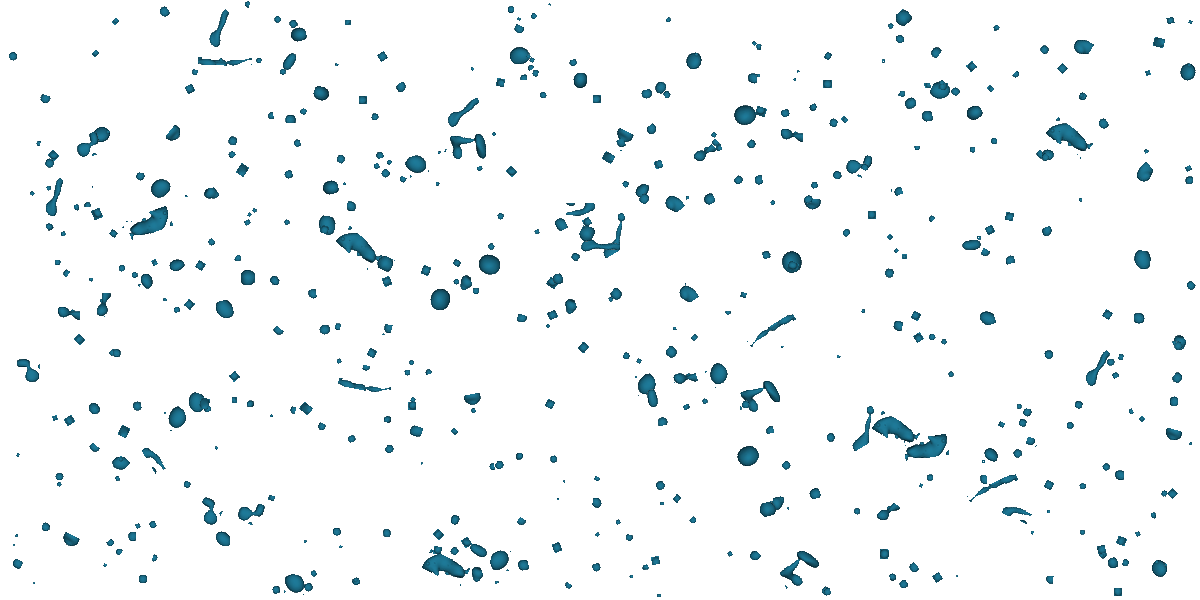Detached ligament: (772, 540, 827, 594), (442, 120, 496, 171), (589, 211, 639, 259), (838, 404, 888, 452), (335, 225, 383, 272), (1045, 116, 1094, 161), (871, 410, 921, 452), (421, 548, 471, 588), (746, 312, 797, 348), (124, 205, 174, 241), (739, 375, 783, 415), (1078, 349, 1120, 389), (201, 8, 241, 50), (966, 472, 1019, 503), (37, 177, 76, 219), (902, 433, 950, 462), (579, 231, 621, 264), (443, 97, 485, 129), (193, 495, 226, 529), (234, 496, 267, 528), (337, 377, 392, 396), (843, 149, 874, 180), (140, 443, 167, 475), (73, 131, 102, 159), (1000, 501, 1033, 525), (691, 139, 718, 167), (874, 498, 901, 526), (16, 358, 41, 384), (671, 367, 699, 389), (198, 57, 252, 66), (779, 127, 804, 143), (56, 305, 81, 321), (566, 203, 596, 216), (96, 293, 111, 317)
drop: (732, 440, 764, 472), (776, 246, 808, 278), (729, 99, 761, 131), (505, 41, 534, 71), (146, 174, 175, 203), (703, 360, 732, 389), (162, 404, 190, 432), (426, 286, 455, 313), (403, 152, 430, 179), (927, 79, 954, 105), (660, 191, 686, 217), (674, 281, 700, 307), (1132, 161, 1158, 187), (477, 251, 502, 278), (183, 390, 208, 416), (1069, 35, 1095, 60), (1147, 556, 1172, 581), (89, 122, 114, 147), (633, 372, 658, 397), (212, 298, 236, 323), (107, 452, 131, 476), (1176, 60, 1200, 84), (278, 50, 301, 75), (467, 539, 492, 562), (961, 101, 985, 124), (1167, 331, 1190, 354), (891, 7, 914, 30), (283, 573, 306, 596), (489, 549, 512, 572), (315, 214, 337, 238), (373, 252, 396, 274), (165, 254, 187, 276), (136, 269, 158, 291), (683, 50, 705, 72), (1131, 249, 1152, 272), (576, 223, 597, 246), (975, 308, 997, 329), (465, 563, 486, 585), (311, 84, 333, 105), (164, 123, 185, 145), (769, 493, 789, 515), (559, 295, 579, 317), (319, 177, 340, 197), (287, 24, 308, 44), (981, 444, 1001, 464), (60, 531, 81, 550), (614, 127, 635, 146), (756, 500, 777, 519), (632, 181, 651, 201), (201, 186, 221, 204), (1163, 427, 1184, 443), (212, 530, 231, 547), (571, 72, 588, 91), (646, 388, 660, 410), (745, 548, 763, 565), (643, 122, 661, 139), (240, 267, 256, 286), (463, 392, 483, 407), (552, 216, 569, 233), (608, 286, 625, 303), (663, 344, 680, 361), (393, 80, 410, 97), (1170, 370, 1187, 387), (1094, 116, 1111, 133), (155, 4, 172, 21), (637, 191, 654, 208), (652, 79, 669, 96), (86, 400, 103, 417), (962, 238, 983, 251), (700, 191, 717, 207), (902, 95, 919, 111), (457, 273, 472, 291), (803, 197, 822, 211), (408, 424, 424, 439), (270, 325, 286, 340), (86, 442, 102, 457), (1033, 149, 1049, 164), (928, 44, 943, 60), (806, 486, 822, 501), (1039, 225, 1055, 240), (1040, 147, 1056, 162), (235, 162, 250, 178), (298, 401, 314, 416), (653, 479, 668, 494), (906, 561, 921, 576), (601, 150, 616, 165), (267, 273, 282, 288), (1105, 556, 1120, 571), (550, 272, 565, 287), (591, 496, 605, 511), (979, 247, 994, 261), (515, 516, 530, 530), (225, 134, 239, 149), (824, 430, 838, 445), (545, 276, 560, 290), (117, 424, 131, 439), (516, 558, 530, 572), (10, 557, 24, 571), (839, 225, 853, 239), (512, 23, 526, 37), (90, 207, 104, 221), (515, 313, 530, 326), (615, 137, 628, 152), (198, 396, 211, 411), (1002, 253, 1016, 266), (38, 93, 52, 106), (346, 200, 359, 214), (890, 185, 904, 198), (754, 105, 768, 118), (786, 260, 800, 273), (1152, 36, 1166, 49), (1133, 312, 1146, 325), (1038, 43, 1051, 56), (1011, 447, 1024, 460), (448, 545, 461, 558), (949, 85, 962, 98), (1097, 548, 1110, 561), (287, 17, 300, 30), (569, 250, 582, 263), (379, 167, 392, 180), (780, 459, 793, 472), (897, 578, 910, 591), (1038, 151, 1051, 164), (745, 138, 758, 151), (1166, 487, 1179, 500), (1101, 308, 1114, 321), (194, 259, 207, 272), (183, 298, 196, 311), (376, 50, 389, 63), (1056, 62, 1069, 75), (47, 149, 60, 162), (460, 536, 473, 549), (505, 165, 518, 178), (432, 528, 445, 541), (63, 414, 76, 427), (73, 333, 86, 346), (965, 60, 978, 73), (912, 331, 925, 344), (270, 13, 283, 26), (732, 174, 745, 187), (493, 459, 506, 472), (1184, 279, 1197, 292), (383, 443, 396, 456), (577, 341, 590, 354), (228, 370, 241, 383), (931, 571, 944, 584), (306, 288, 318, 302), (892, 319, 904, 333), (1025, 436, 1039, 448), (761, 424, 775, 436), (43, 157, 55, 171), (345, 432, 358, 444), (752, 174, 764, 187), (831, 169, 844, 181), (1100, 461, 1112, 474), (40, 521, 52, 534), (1115, 535, 1128, 547), (381, 275, 393, 288), (420, 264, 432, 277), (551, 541, 563, 554), (546, 309, 559, 321), (449, 513, 461, 526), (382, 323, 393, 337), (921, 110, 933, 122), (7, 50, 19, 62), (319, 325, 331, 337), (641, 89, 653, 101), (740, 399, 752, 411), (661, 88, 673, 100), (820, 585, 832, 597), (894, 33, 906, 45), (335, 153, 347, 165), (105, 537, 117, 549), (295, 580, 307, 592), (350, 576, 362, 588), (1077, 91, 1089, 103), (1172, 340, 1184, 352), (44, 220, 56, 232), (808, 102, 820, 114), (315, 421, 327, 433), (366, 347, 378, 359), (544, 398, 556, 410), (984, 224, 996, 236), (1043, 479, 1055, 491), (937, 80, 949, 92), (581, 216, 593, 228), (180, 479, 192, 491), (621, 351, 633, 363), (910, 310, 922, 322), (184, 83, 196, 95), (977, 474, 988, 487), (1114, 469, 1125, 482), (747, 72, 758, 85), (284, 113, 297, 124), (1043, 349, 1054, 362), (1168, 395, 1179, 407), (828, 117, 839, 129), (303, 581, 314, 593), (126, 531, 137, 543), (201, 403, 213, 414), (147, 519, 158, 531), (331, 526, 343, 537), (134, 171, 146, 182), (1021, 407, 1033, 418), (779, 108, 791, 119), (1044, 575, 1054, 588), (710, 138, 721, 149), (60, 268, 71, 279), (1011, 69, 1022, 80), (859, 161, 870, 172), (803, 194, 814, 205), (206, 237, 217, 248), (226, 149, 237, 160), (113, 546, 124, 557), (524, 62, 535, 73), (925, 213, 936, 224), (761, 249, 772, 260), (1073, 399, 1084, 410), (271, 584, 282, 595), (1017, 417, 1028, 428), (591, 562, 602, 573), (283, 169, 294, 180), (888, 571, 899, 582), (382, 413, 393, 424), (821, 586, 832, 597), (1004, 211, 1015, 222), (108, 228, 119, 239), (319, 224, 330, 235), (495, 77, 506, 88), (699, 396, 710, 407), (885, 20, 896, 31), (945, 369, 956, 380), (281, 217, 292, 228), (688, 515, 699, 526), (990, 23, 1001, 34), (653, 159, 664, 170), (650, 555, 661, 566), (132, 401, 142, 413), (884, 268, 894, 280), (657, 416, 668, 426), (1105, 358, 1116, 368), (486, 241, 496, 252), (563, 581, 574, 591), (568, 58, 579, 68), (292, 138, 302, 149), (297, 106, 308, 116), (370, 112, 380, 123), (112, 348, 122, 359), (672, 493, 682, 504), (309, 568, 319, 579), (528, 11, 538, 22), (72, 203, 82, 214), (1149, 511, 1159, 522), (822, 79, 833, 89), (54, 472, 64, 482), (989, 136, 999, 146), (927, 332, 937, 342), (538, 90, 548, 100), (117, 263, 127, 273), (382, 528, 392, 538), (398, 175, 408, 185), (1110, 370, 1120, 380), (1184, 175, 1194, 185), (515, 452, 525, 462), (245, 398, 255, 408), (452, 258, 462, 268), (823, 51, 833, 61), (867, 210, 877, 220), (138, 574, 148, 584), (407, 401, 417, 411), (130, 270, 140, 280), (278, 67, 288, 77), (1159, 488, 1169, 498), (451, 277, 461, 287), (358, 95, 368, 105), (1113, 587, 1123, 597), (592, 94, 602, 104), (361, 364, 372, 373), (288, 405, 297, 416), (422, 367, 433, 376), (1064, 421, 1075, 430), (549, 453, 558, 464), (639, 563, 650, 572), (33, 138, 42, 148), (172, 305, 182, 314), (496, 211, 505, 221), (621, 179, 630, 189), (506, 5, 515, 15), (333, 322, 342, 332), (242, 0, 251, 10), (896, 89, 906, 98), (372, 162, 381, 172), (880, 549, 889, 559), (664, 16, 673, 25), (1126, 407, 1135, 416), (243, 218, 252, 227), (108, 348, 117, 357), (690, 333, 699, 342), (1166, 16, 1175, 25), (997, 420, 1006, 429), (91, 49, 100, 58), (1184, 164, 1193, 173), (150, 258, 159, 267), (111, 17, 120, 26), (986, 84, 995, 93), (840, 115, 849, 124), (433, 546, 442, 555), (450, 427, 459, 436), (809, 180, 818, 189), (624, 534, 633, 543), (1122, 559, 1131, 568), (385, 158, 394, 167), (254, 56, 263, 65), (1097, 545, 1106, 554), (518, 73, 528, 81), (151, 553, 159, 563), (488, 462, 496, 472), (232, 254, 242, 262), (755, 43, 763, 53), (469, 406, 477, 415), (113, 474, 121, 483), (926, 473, 934, 482), (375, 151, 384, 159), (82, 200, 91, 208), (592, 475, 601, 483), (475, 165, 484, 173), (267, 494, 276, 502), (715, 143, 723, 152), (682, 403, 691, 411), (403, 369, 411, 378), (968, 146, 976, 155), (54, 259, 63, 267), (472, 287, 480, 296), (769, 199, 777, 207), (724, 310, 732, 318), (1079, 482, 1087, 490), (1117, 353, 1125, 361), (528, 56, 536, 64), (635, 357, 643, 365), (607, 295, 615, 303), (55, 480, 63, 488), (117, 455, 125, 463), (1138, 415, 1146, 423), (886, 233, 894, 241), (860, 308, 868, 316), (409, 396, 417, 404), (710, 131, 718, 139), (246, 211, 254, 219), (594, 531, 602, 539), (525, 53, 533, 61), (250, 207, 258, 215), (59, 230, 67, 238), (335, 357, 343, 365), (614, 518, 622, 526), (726, 550, 734, 558), (13, 532, 21, 540), (267, 412, 275, 420), (1187, 440, 1195, 448), (340, 180, 348, 188), (791, 76, 799, 84), (750, 39, 758, 47), (28, 189, 36, 197), (892, 247, 900, 255), (1142, 147, 1150, 155), (490, 130, 498, 138), (940, 337, 947, 346), (532, 69, 539, 77), (267, 112, 274, 120), (913, 145, 921, 152), (231, 396, 238, 404), (344, 19, 352, 26), (853, 507, 860, 515), (191, 69, 198, 77), (408, 359, 415, 366), (217, 56, 224, 63), (924, 82, 931, 89), (901, 253, 908, 260), (87, 277, 94, 284), (881, 58, 888, 65), (1076, 196, 1083, 203), (435, 181, 442, 188), (1079, 529, 1086, 536), (1016, 403, 1023, 410), (1171, 340, 1178, 347), (975, 234, 982, 241), (980, 458, 987, 465), (683, 195, 690, 201), (672, 326, 678, 333), (333, 62, 340, 68), (436, 149, 442, 156), (740, 292, 747, 298), (938, 80, 945, 86), (534, 229, 540, 235), (213, 445, 219, 451), (46, 185, 52, 191), (545, 323, 551, 329), (15, 452, 21, 458), (1145, 70, 1151, 76), (52, 415, 58, 421), (516, 16, 522, 22), (1135, 531, 1141, 537), (135, 523, 141, 529), (836, 354, 842, 360), (338, 544, 344, 550), (1029, 530, 1035, 536), (469, 66, 475, 72), (136, 282, 142, 288), (795, 68, 801, 74), (302, 539, 308, 545), (561, 478, 567, 484), (419, 460, 425, 466), (785, 505, 791, 511), (31, 580, 37, 586), (954, 573, 960, 579), (627, 574, 634, 579), (754, 73, 761, 78), (161, 297, 167, 302), (947, 371, 952, 377), (90, 184, 95, 190), (120, 225, 126, 230), (683, 281, 688, 287), (656, 593, 662, 598), (659, 501, 665, 506), (1045, 509, 1051, 514), (183, 193, 189, 198), (555, 496, 561, 501), (779, 345, 785, 350), (547, 1, 552, 7), (494, 580, 500, 584), (11, 543, 16, 547), (1188, 20, 1193, 24), (919, 483, 923, 488), (103, 563, 107, 568), (1163, 562, 1167, 567)
